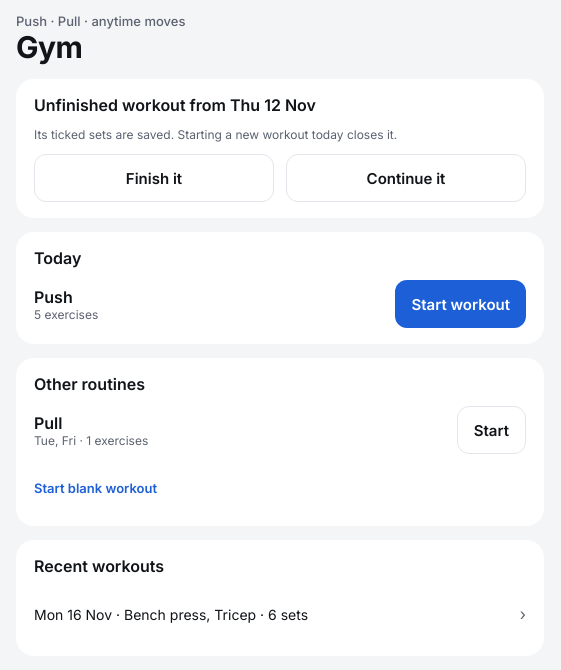
Test: an unfinished workout from an earlier day says so and can be finished
Expected: the heading "Unfinished workout from Thu 12 Nov" is shown, [34,95,316,115]
Click the button "Finish it" at {"x": 154, "y": 178}, box [34,154,274,202]
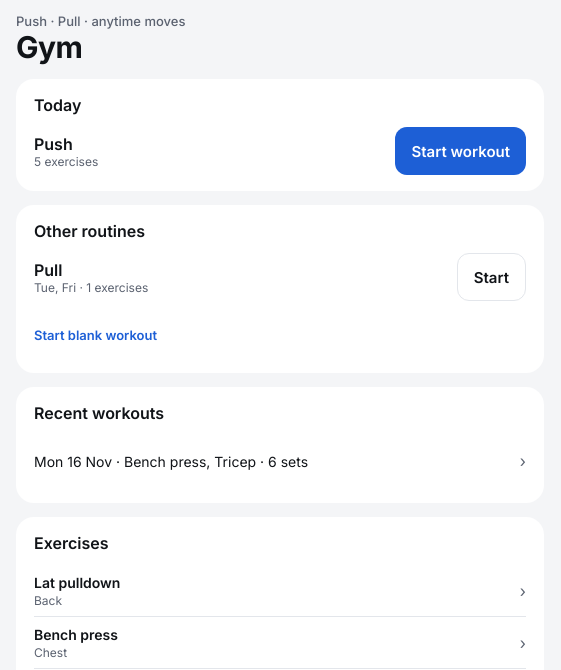
Expected: the heading "Unfinished workout from Thu 12 Nov" is gone
